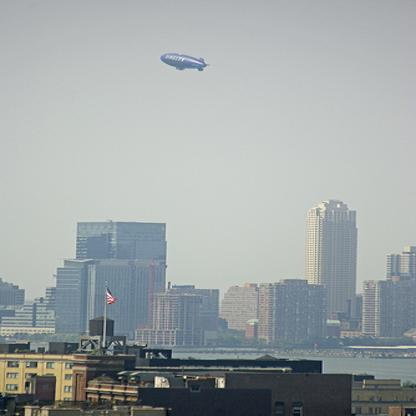Airship: (158, 49, 212, 82)
